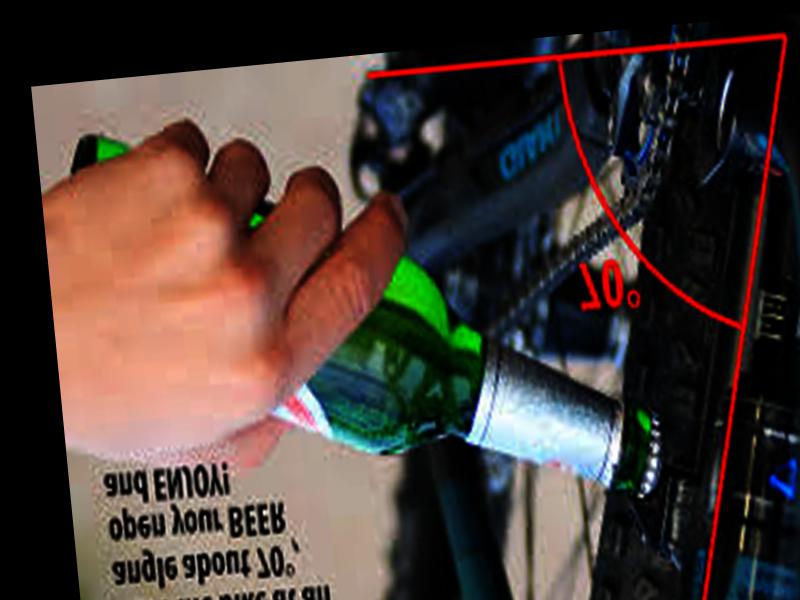Beer: (65, 81, 676, 549)
